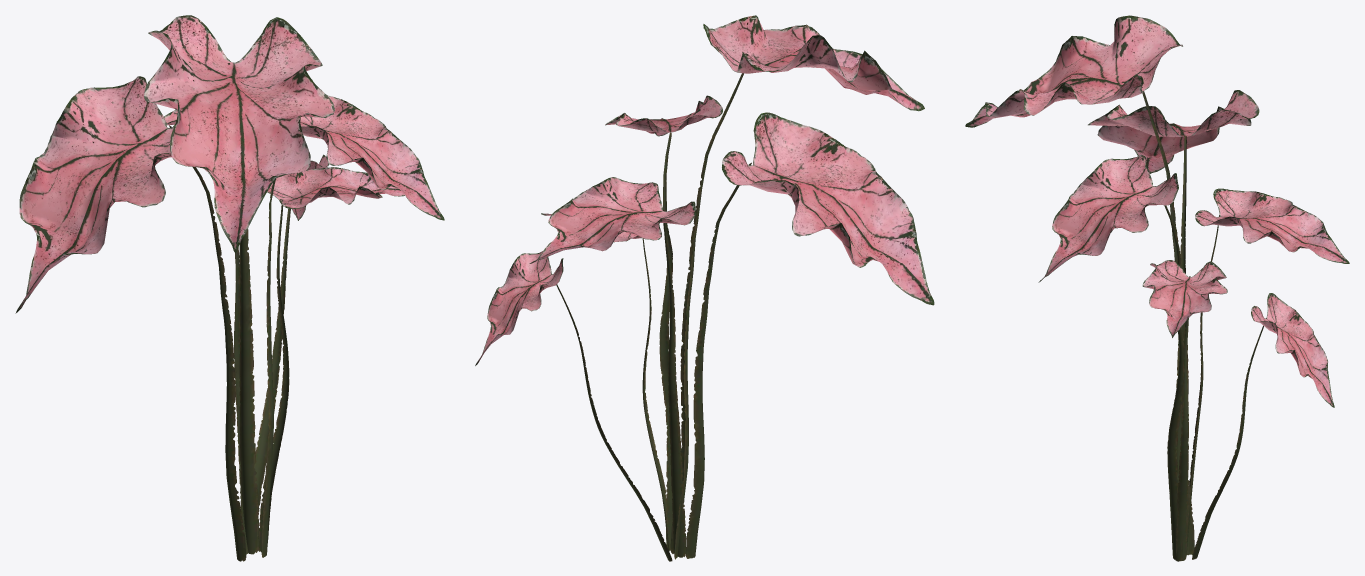
File: leaf-syngonium-neon.glb
3 renders of one model, left to right at view 1: azimuth 30°, elevation 25°; view 2: azimuth 150°, elevation 25°; view 3: azimuth 270°, elevation 25°, orthographic. The views are drawn at different scales.
Parts seen in each view (by area): view 1: plant; view 2: plant; view 3: plant.
Boxes of the visible parts, x1,y1,x2,y2 form: plant: [15, 15, 444, 561]; plant: [475, 15, 934, 561]; plant: [965, 15, 1349, 561].
Bounding box in the file's own units: 0.7577 × 1 × 0.7075.
Materials: 1 (1 with a texture image).
